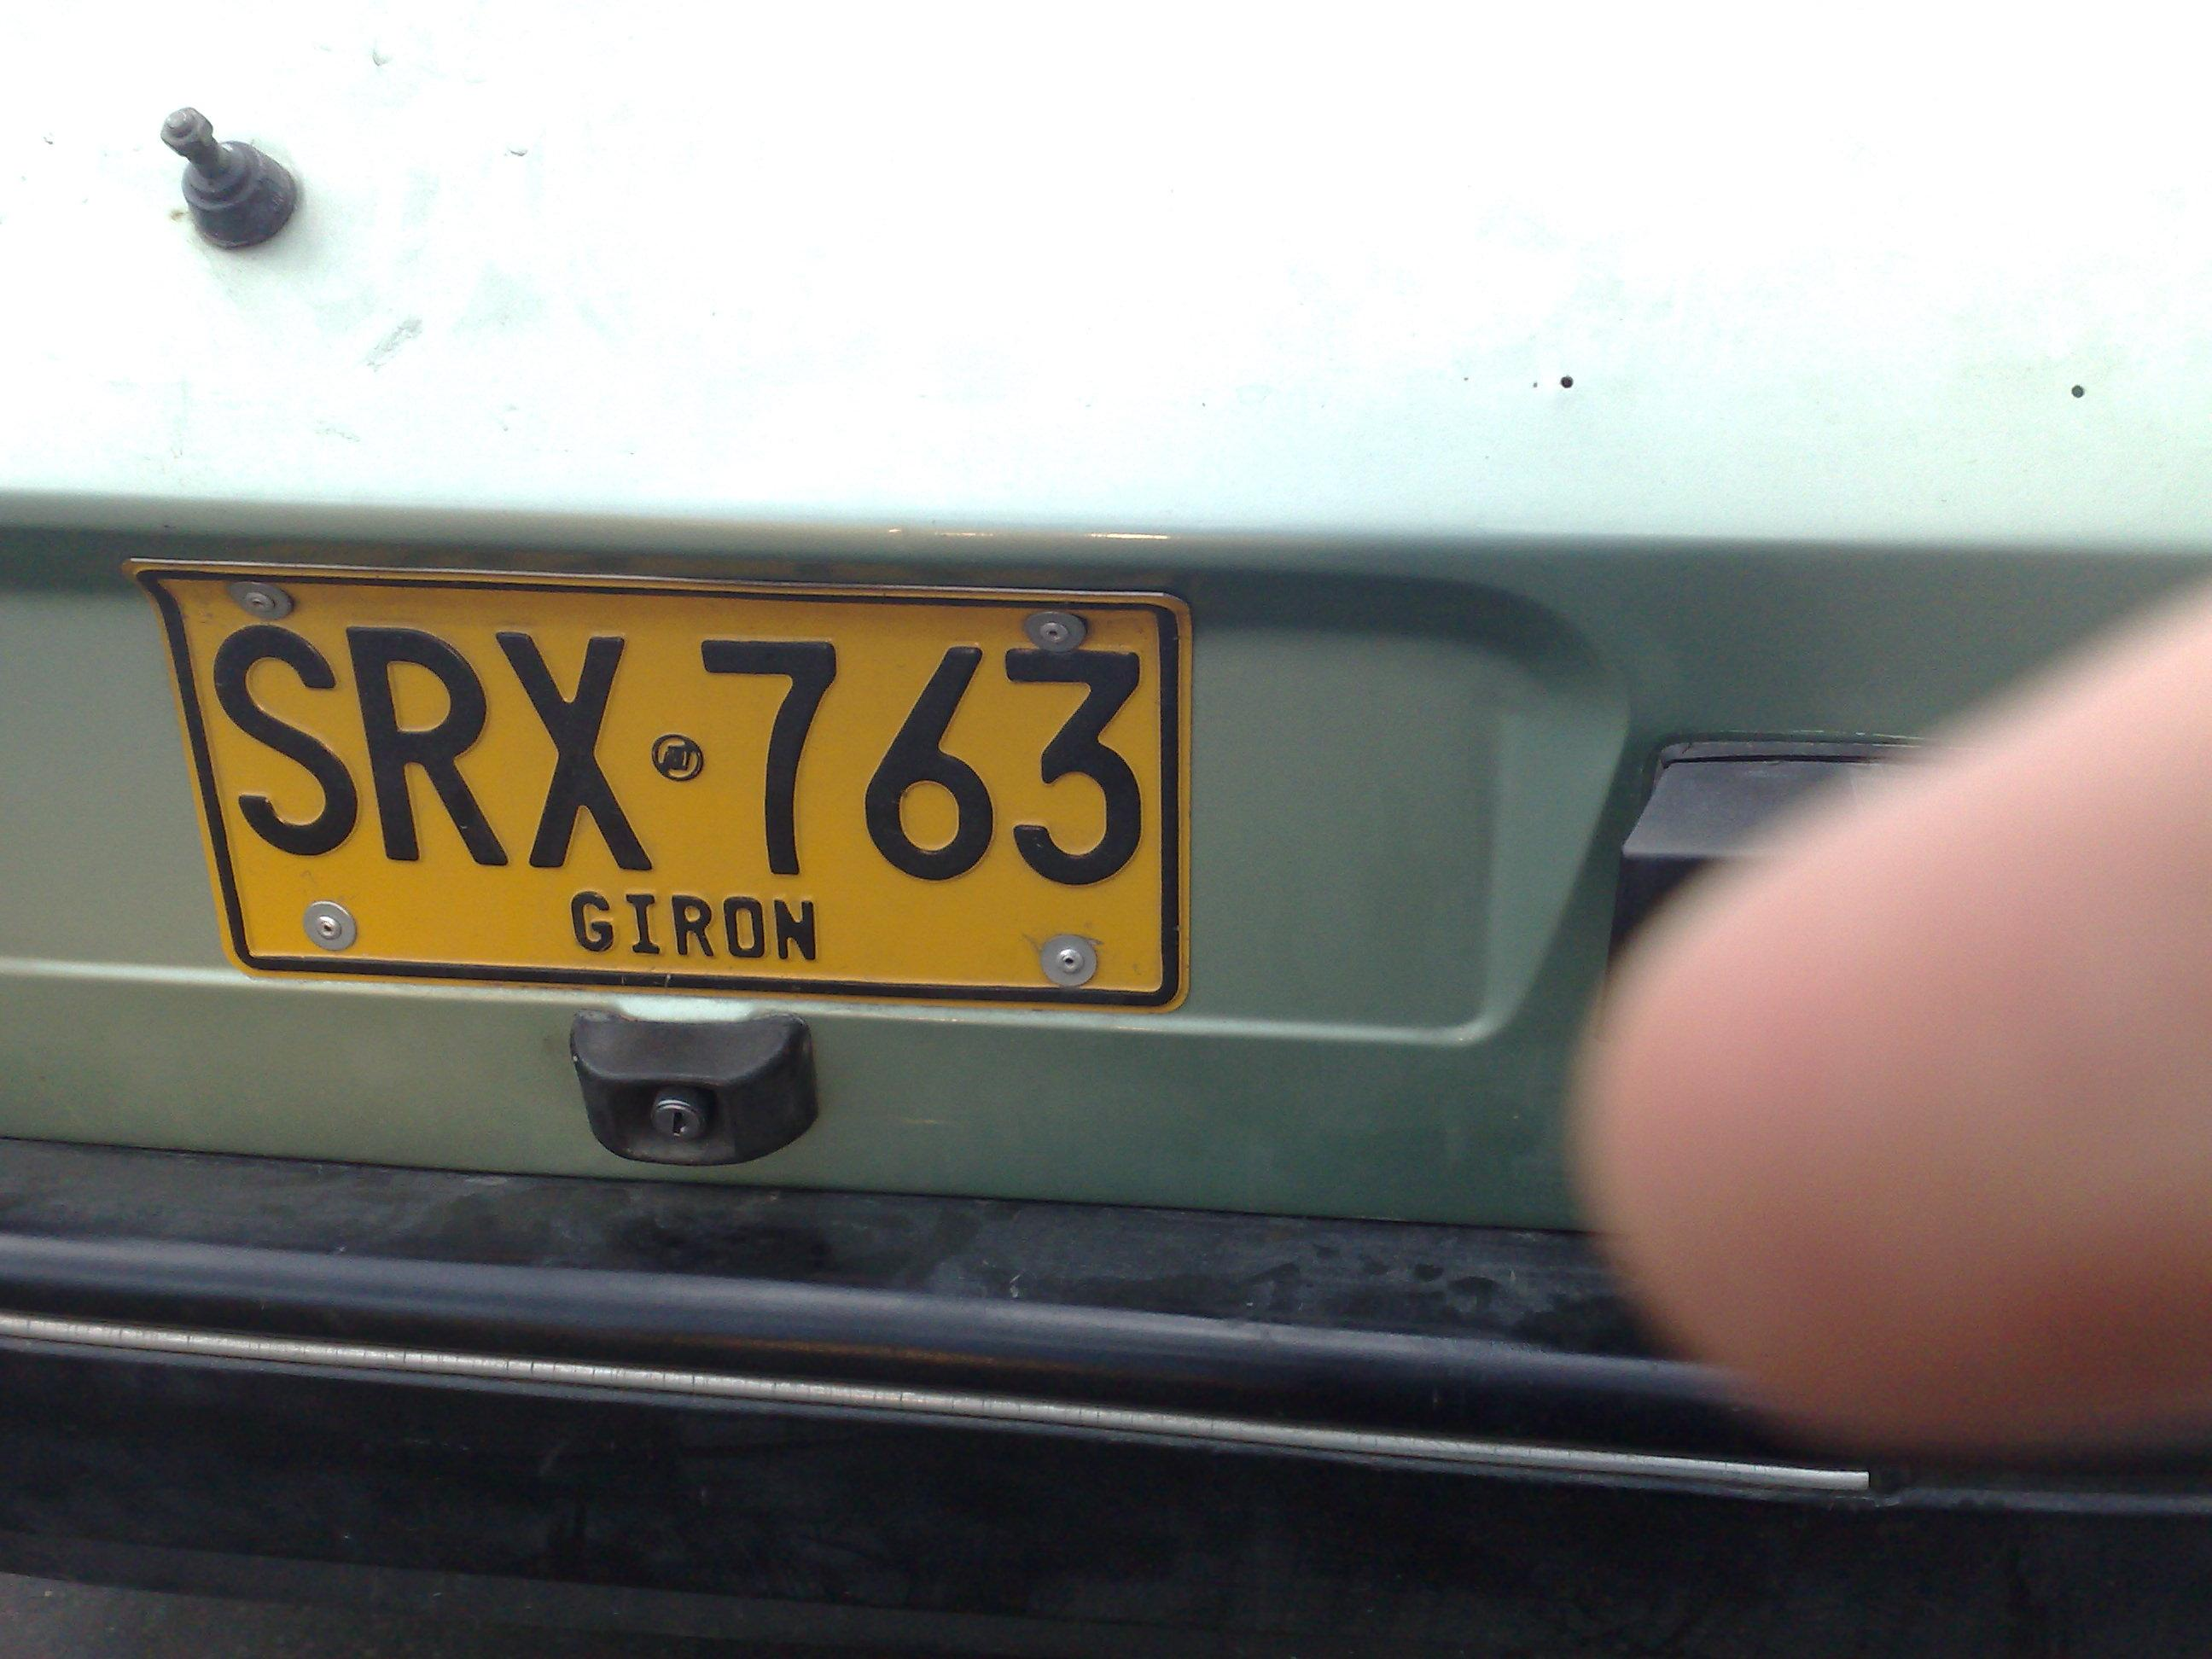placas: (119, 544, 1196, 1022)
